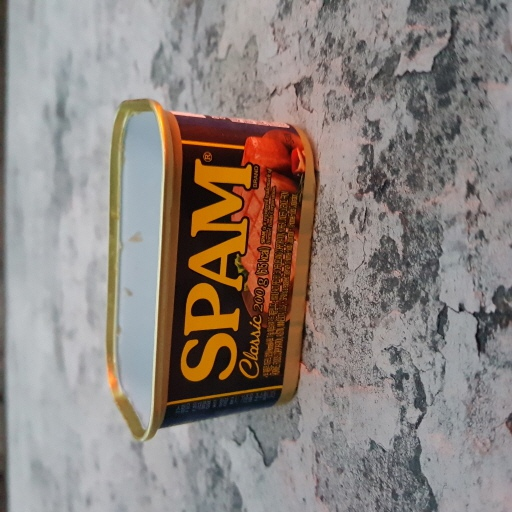Metal_2: (98, 97, 317, 437)
